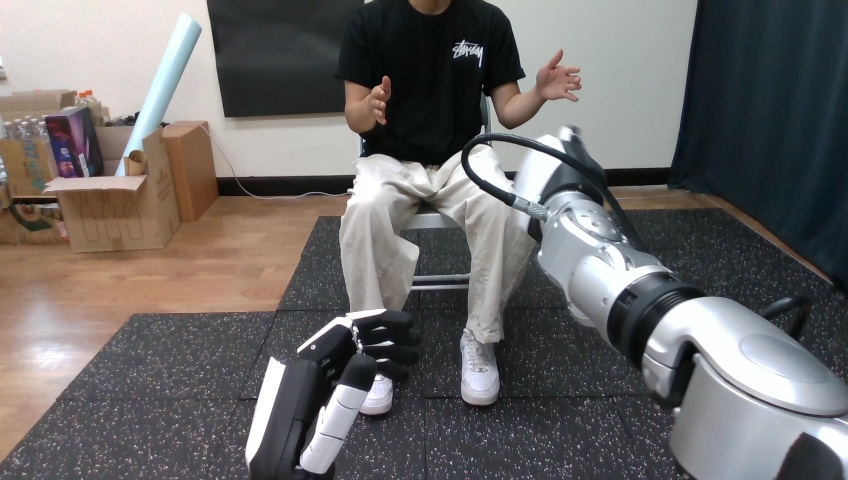left robot hand: (461, 127, 847, 478), (245, 309, 419, 479)
